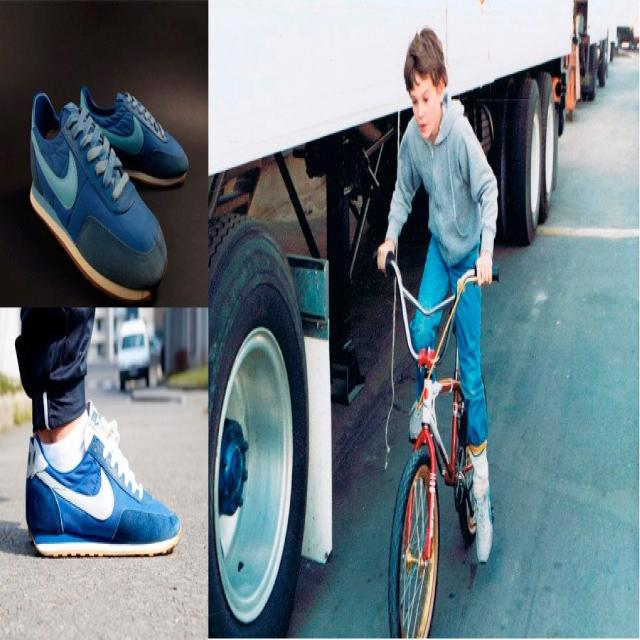nike: (30, 467, 117, 535), (33, 131, 82, 227)
